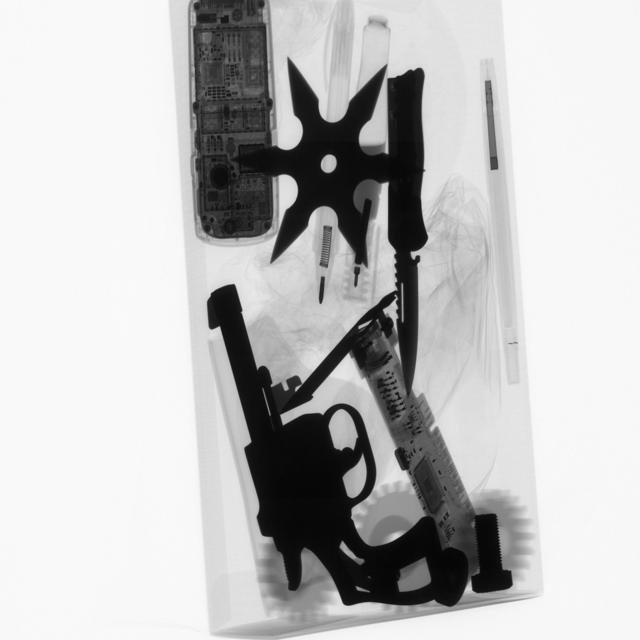gun: (199, 274, 476, 602)
knife: (398, 56, 428, 384)
shuriken: (242, 44, 398, 281)
